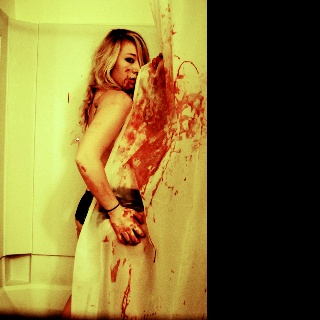without_mask: (111, 39, 144, 91)
